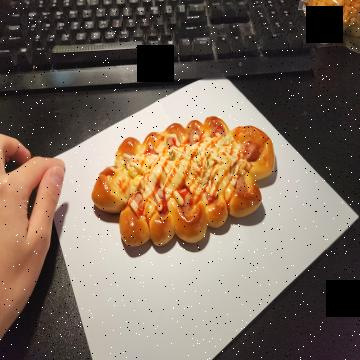pizza_bread: (90, 114, 276, 248)
